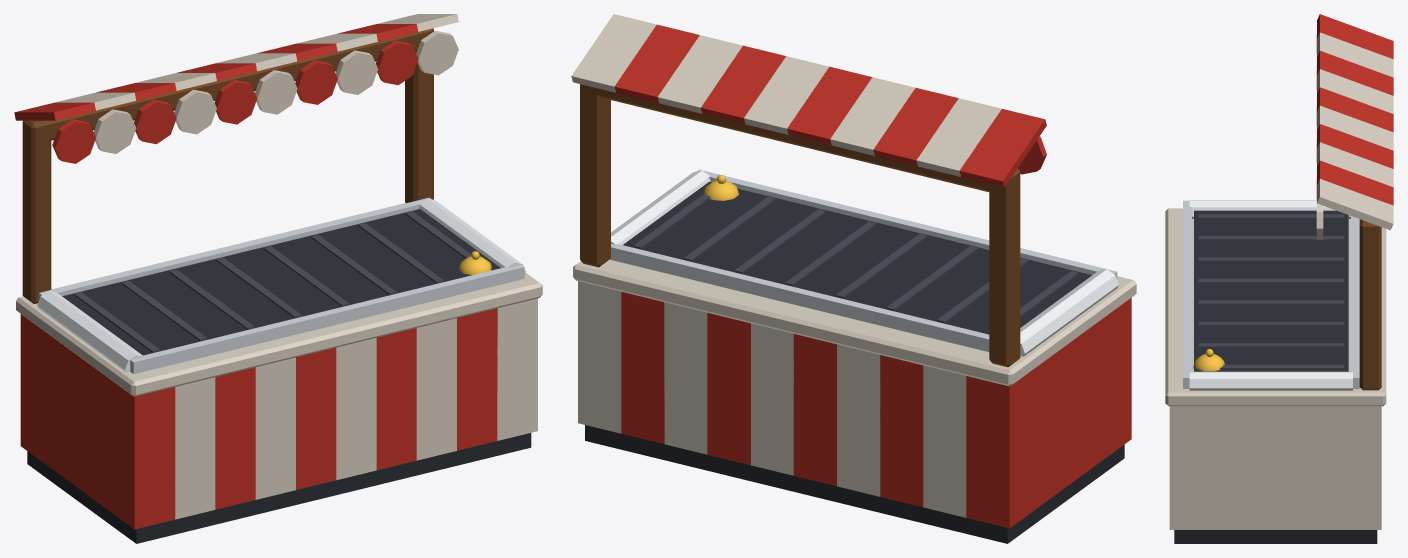
The model's file is hatch.glb.
3 renders of one model, left to right at view 1: azimuth 30°, elevation 25°; view 2: azimuth 150°, elevation 25°; view 3: azimuth 270°, elevation 25°, orthographic. The views are drawn at different scales.
Visible parts, largest first — view 1: hatch, belt; view 2: hatch, belt; view 3: hatch, belt.
Boxes of the visible parts, bbox=[...] form: hatch: bbox=[14, 14, 542, 543]; belt: bbox=[74, 211, 490, 352]; hatch: bbox=[571, 14, 1136, 543]; belt: bbox=[633, 193, 1079, 333]; hatch: bbox=[1165, 14, 1393, 543]; belt: bbox=[1198, 214, 1344, 369].
Size of the model in its own units: 2 by 1.74 by 1.03.
